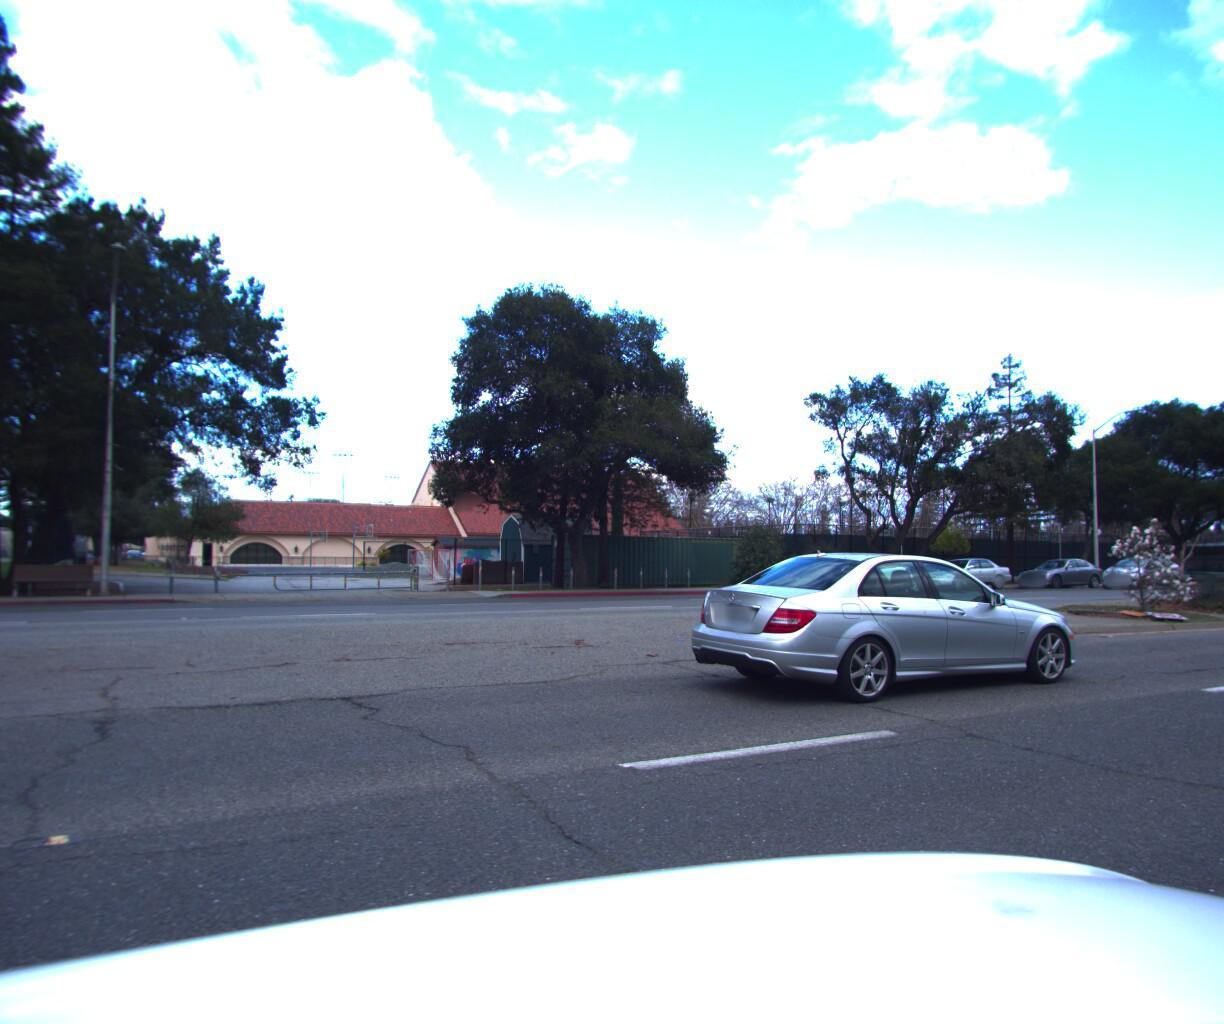car: (660, 533, 1083, 711), (815, 545, 930, 587), (905, 551, 1016, 588), (1088, 546, 1186, 584), (1009, 551, 1106, 584)
